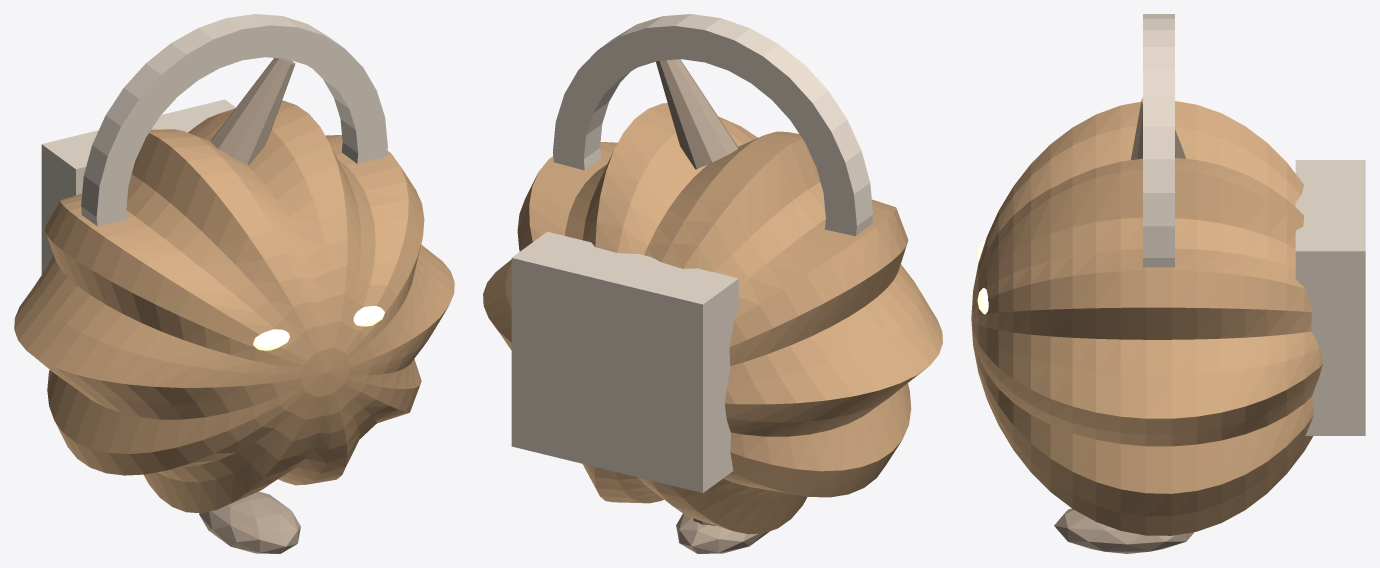
The model's file is resident_pumpkin.glb.
3 views of the same model, side by side, from view 1: azimuth 30°, elevation 25°; view 2: azimuth 150°, elevation 25°; view 3: azimuth 270°, elevation 25° (orthographic). The views are drawn at different scales.
Parts seen in each view (by area): view 1: body, collar, pack, leg, stem, eye_L; view 2: body, pack, collar, stem, leg; view 3: body, pack, collar, leg, stem.
Part boxes in pixels (x1,y1,x2,y2): body: (14,100,454,513); collar: (81,14,387,226); pack: (41,99,235,274); leg: (199,491,300,553); stem: (210,58,295,165); eye_L: (253,329,289,350); body: (483,103,942,534); pack: (511,231,738,492); collar: (553,14,872,236); stem: (656,59,738,169); leg: (676,513,769,553); body: (971,101,1322,535); pack: (1295,160,1365,435); collar: (1143,14,1174,267); leg: (1054,508,1194,553); stem: (1131,97,1185,159).
Bounding box in the file's own units: 1.5 × 1.79 × 1.24.
